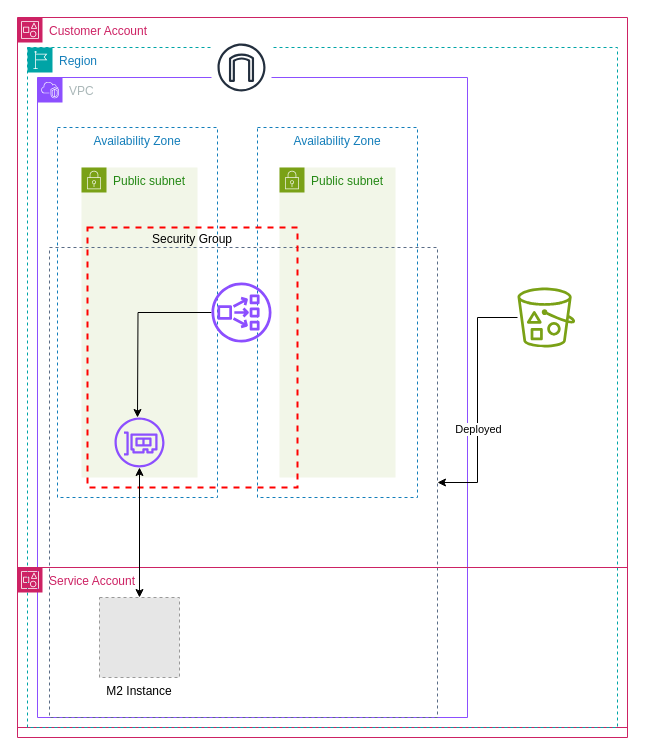
Image size: 645x755. Some labels were removed from this diagram. Grey dashed boxes stand in for pictures. The box of each missing label's shape, as (x1, y1, x2, y2) in pixels:
Application Bucket: (517, 287, 575, 347)
Internet gateway: (210, 36, 272, 98)
M2 ENI: (114, 417, 164, 467)
M2 Environment: (48, 246, 438, 718)
M2 Load Balancer: (211, 282, 271, 342)
